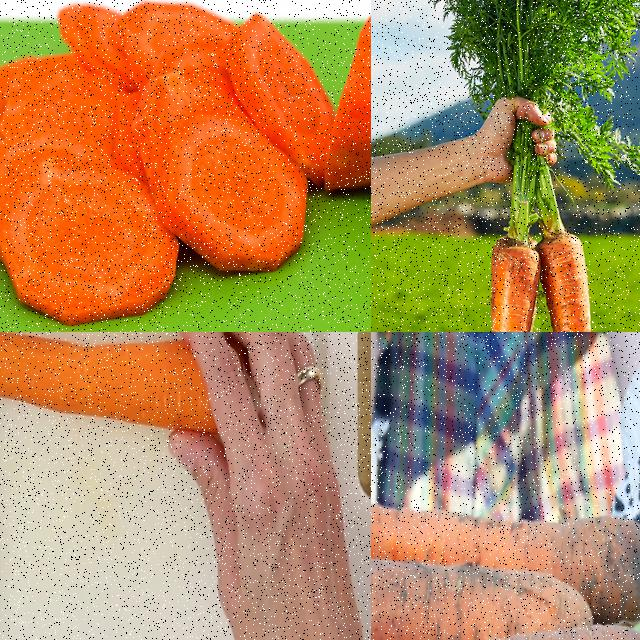carrot: (0, 0, 335, 324), (371, 490, 639, 628), (0, 332, 219, 438), (371, 548, 594, 639), (318, 10, 370, 210), (482, 233, 543, 331), (537, 230, 591, 331)
